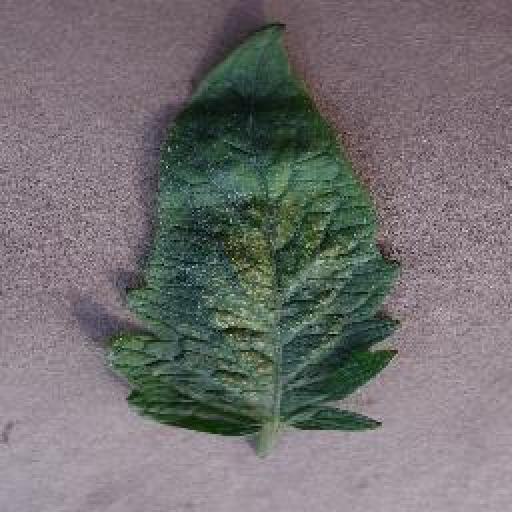disease_tomato: (106, 21, 402, 436)
